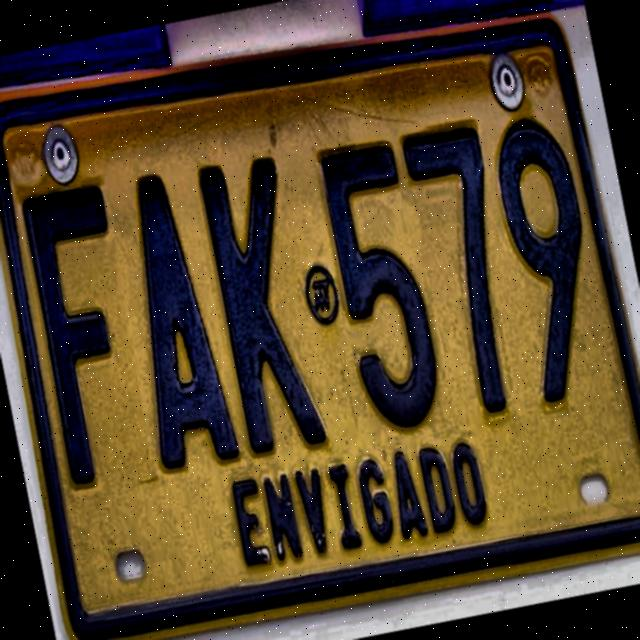5: (314, 132, 449, 438)
7: (398, 115, 533, 425)
9: (484, 110, 618, 412)
A: (104, 166, 243, 481)
F: (17, 182, 157, 492)
K: (188, 149, 334, 464)
